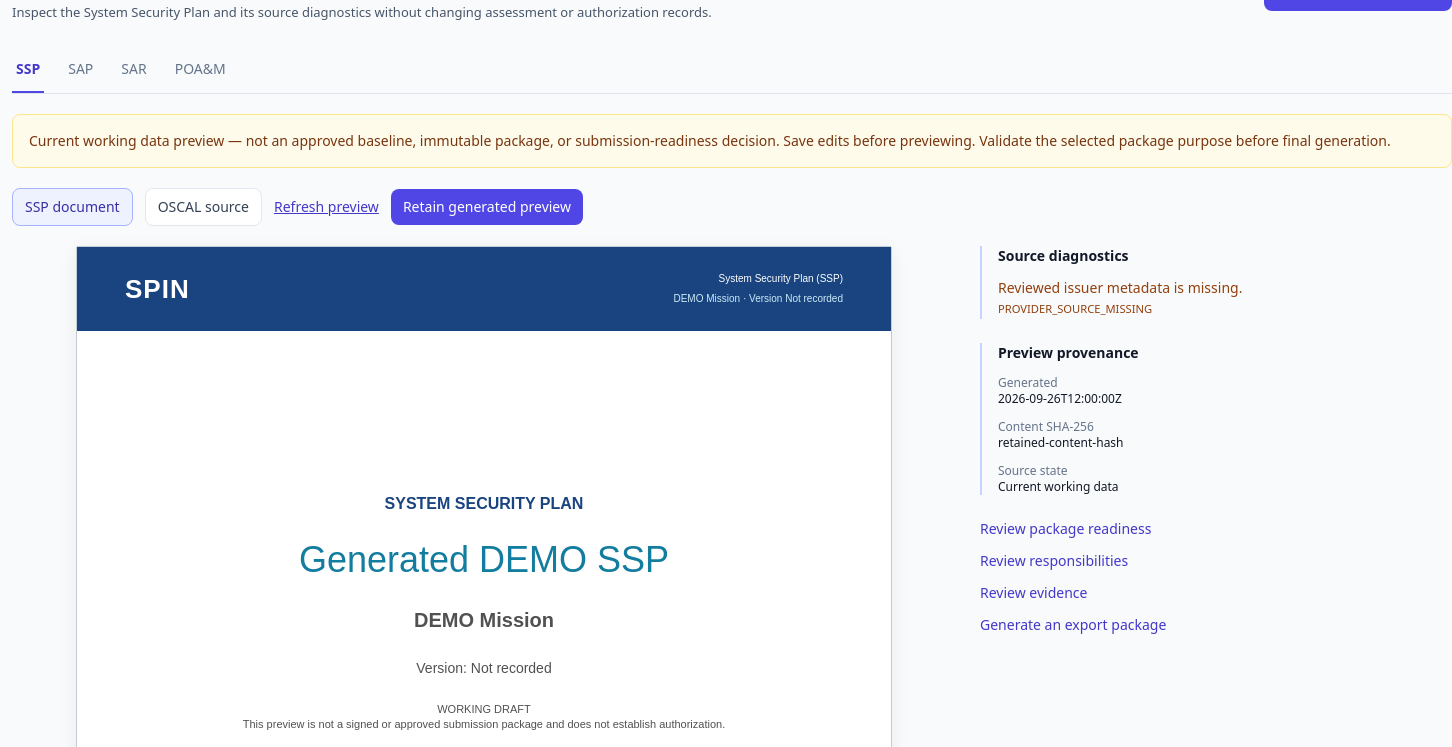
Scenario: generated document preview › shows the selected generated working profile and refreshes changed saved contribution content
What coordinates should you click on to do the following:
click the button "Refresh preview"
I would click on:
 (326, 206)
Its box is [274,196,379,216].
(page scrolled)
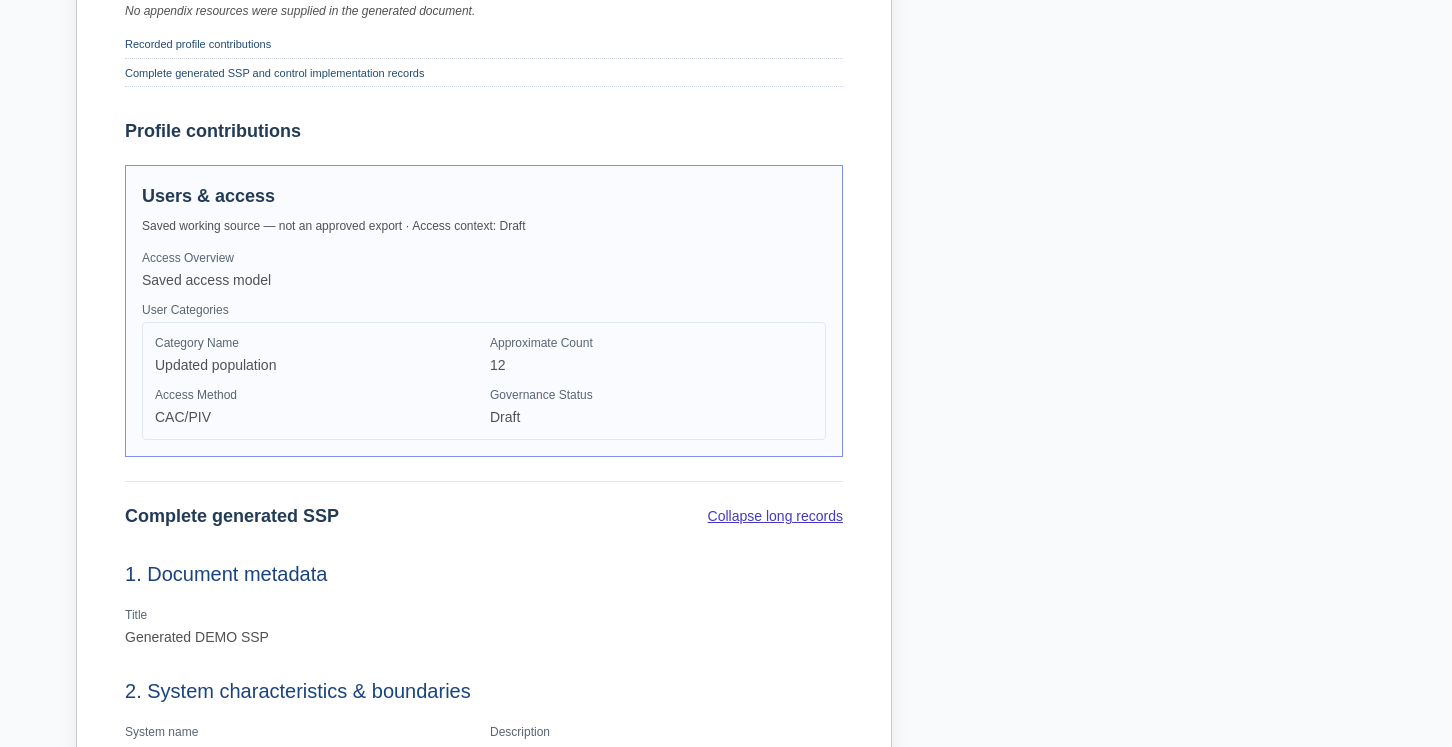
Result: the text "Updated population" is shown at [155,357,276,373]
